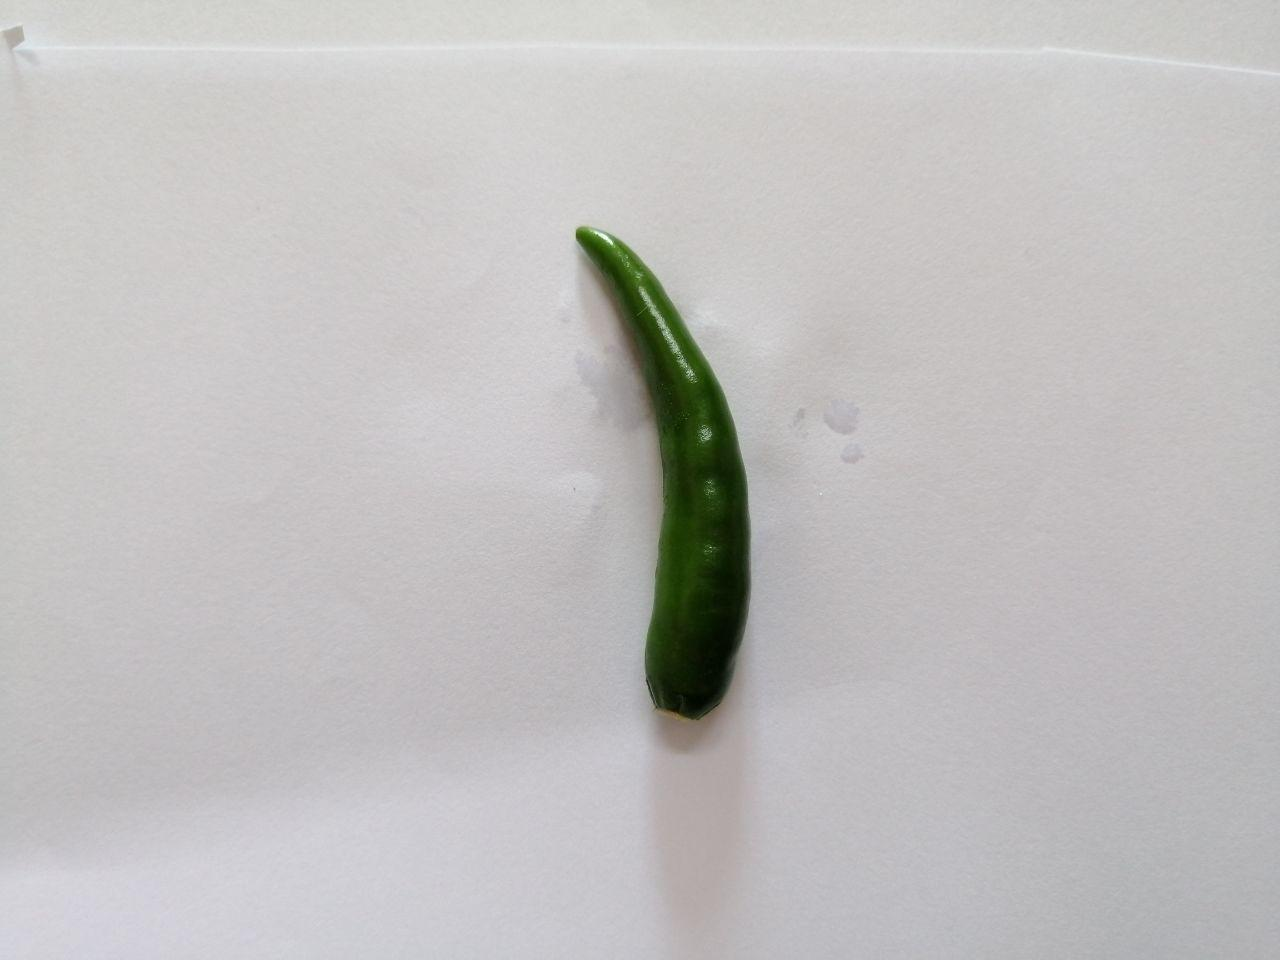lada hijau: (521, 203, 781, 747)
